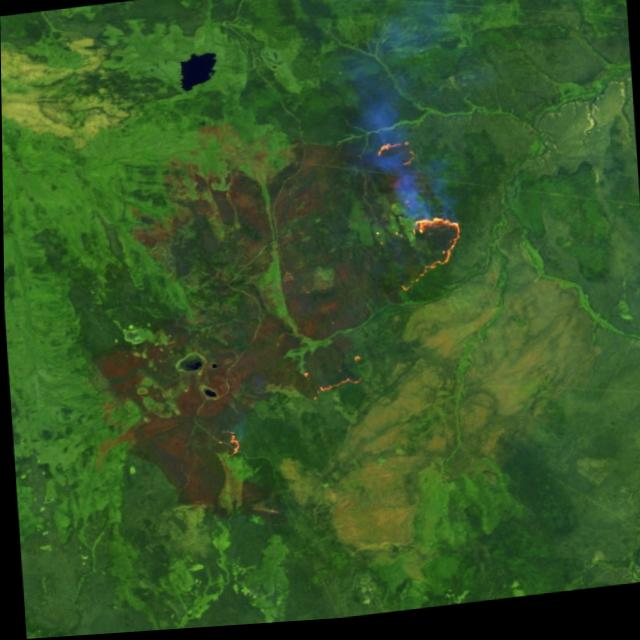fire: (369, 137, 471, 305)
